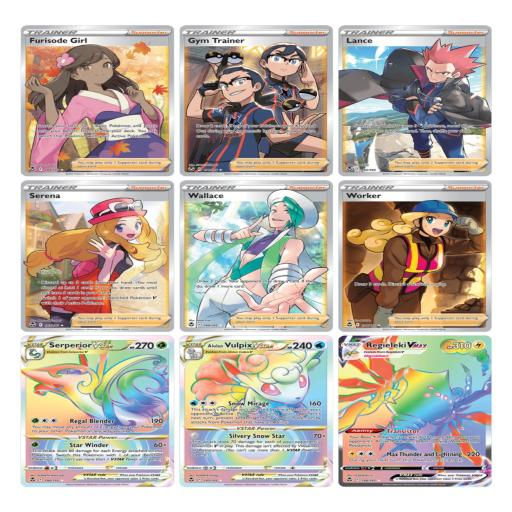card: (22, 24, 175, 177), (337, 336, 492, 487), (339, 25, 492, 177), (21, 180, 174, 332), (180, 180, 333, 332), (21, 335, 174, 487), (180, 336, 333, 488), (181, 25, 334, 176), (339, 180, 492, 331)
